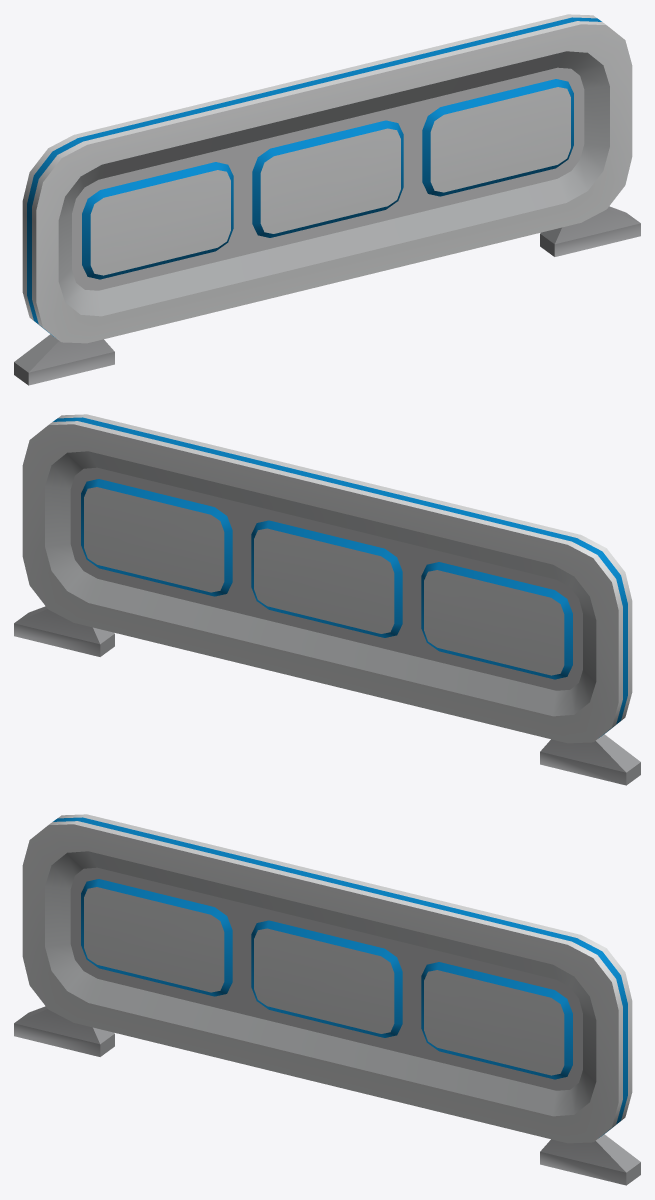
Rendered from Fence_type_A_009.fbx.
3 renders of one model, top to bottom at view 1: azimuth 30°, elevation 25°; view 2: azimuth 150°, elevation 25°; view 3: azimuth 330°, elevation 25°, orthographic.
Parts seen in each view (by area): view 1: Fence_type_A_009; view 2: Fence_type_A_009; view 3: Fence_type_A_009.
Boxes of the visible parts, x1,y1,x2,y2 form: Fence_type_A_009: (14, 14, 640, 385); Fence_type_A_009: (14, 414, 640, 785); Fence_type_A_009: (14, 814, 640, 1185).
Size of the model in its own units: 401 by 16.53 by 141.
